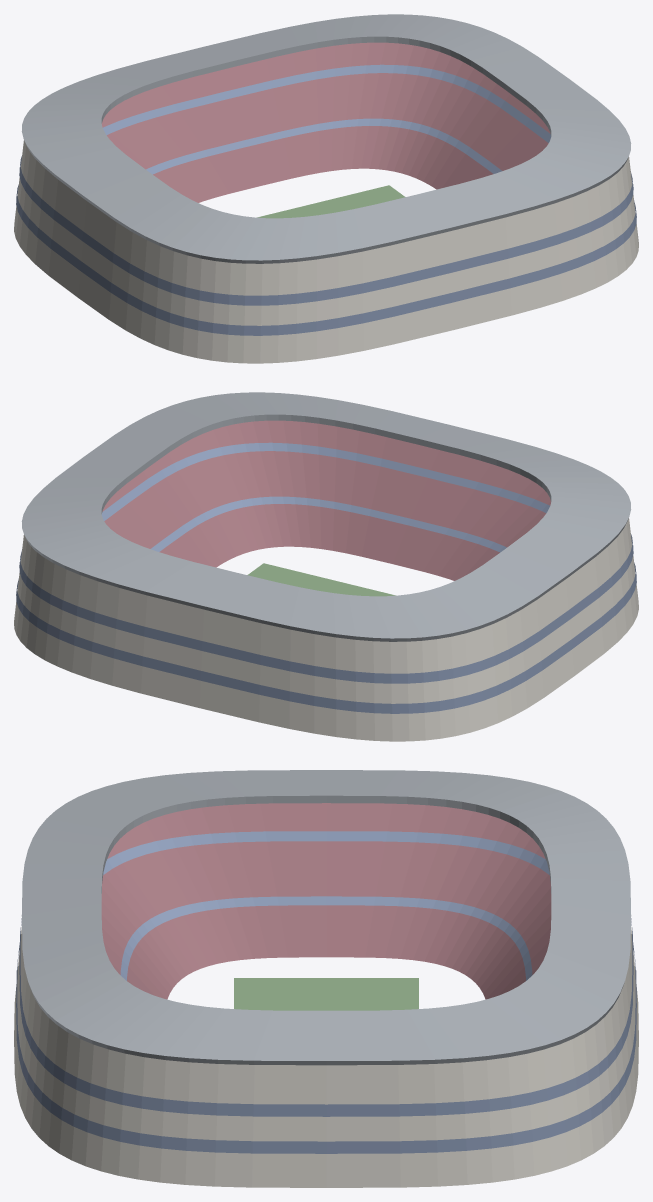
Rendered from campnou.glb.
3 views of the same model, one above another, from view 1: azimuth 30°, elevation 25°; view 2: azimuth 150°, elevation 25°; view 3: azimuth 270°, elevation 25° (orthographic). The views are drawn at different scales.
Size of the model in its own units: 260 by 55 by 230.
